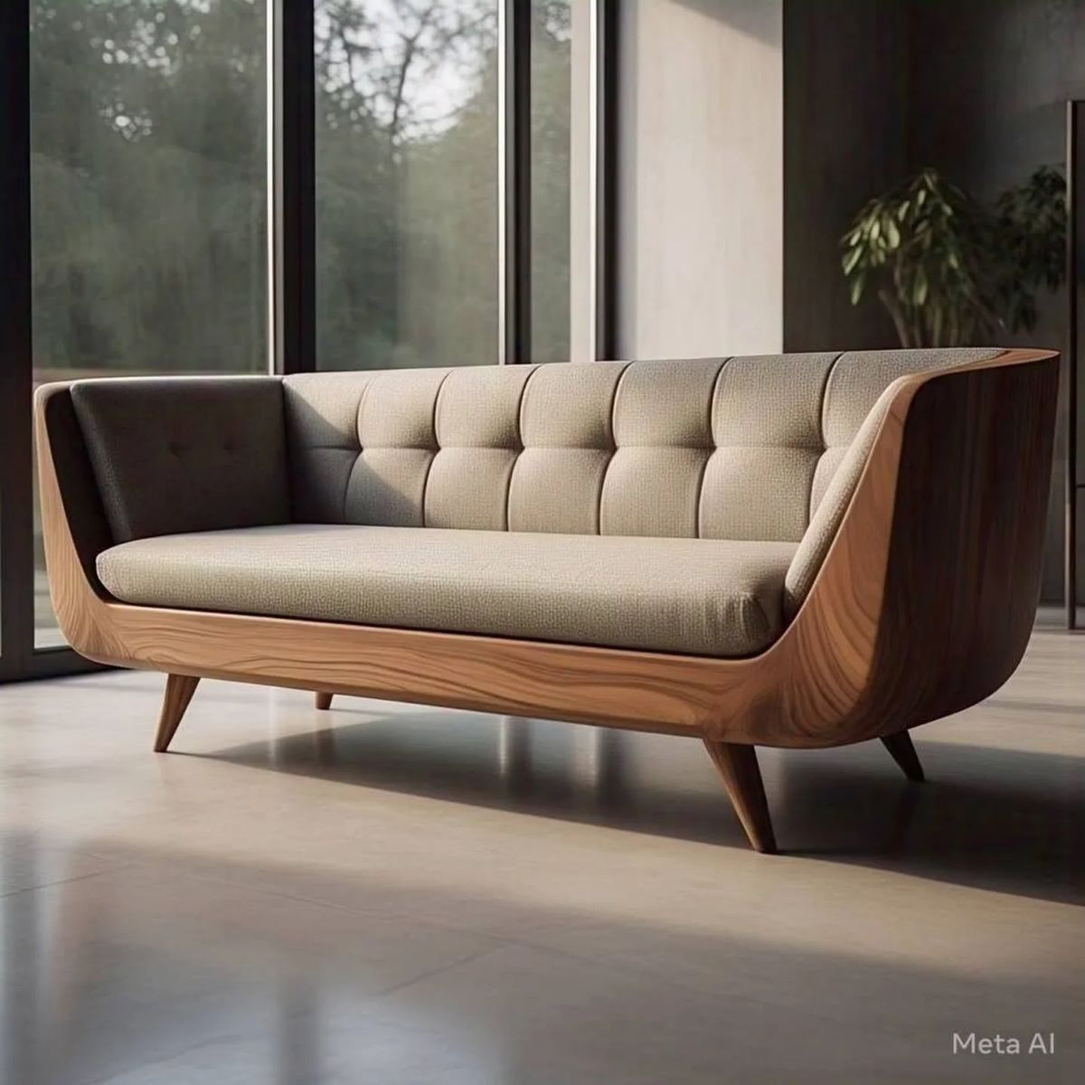3seatersofa: (34, 349, 1058, 853)
backrest: (286, 352, 986, 553)
base: (80, 604, 813, 747)
leftarmrest: (765, 354, 1059, 743)
leg: (704, 740, 776, 853), (155, 674, 198, 751), (881, 732, 923, 781), (316, 692, 333, 710)
rightarmrest: (35, 378, 290, 661)
seat: (97, 524, 796, 658)
